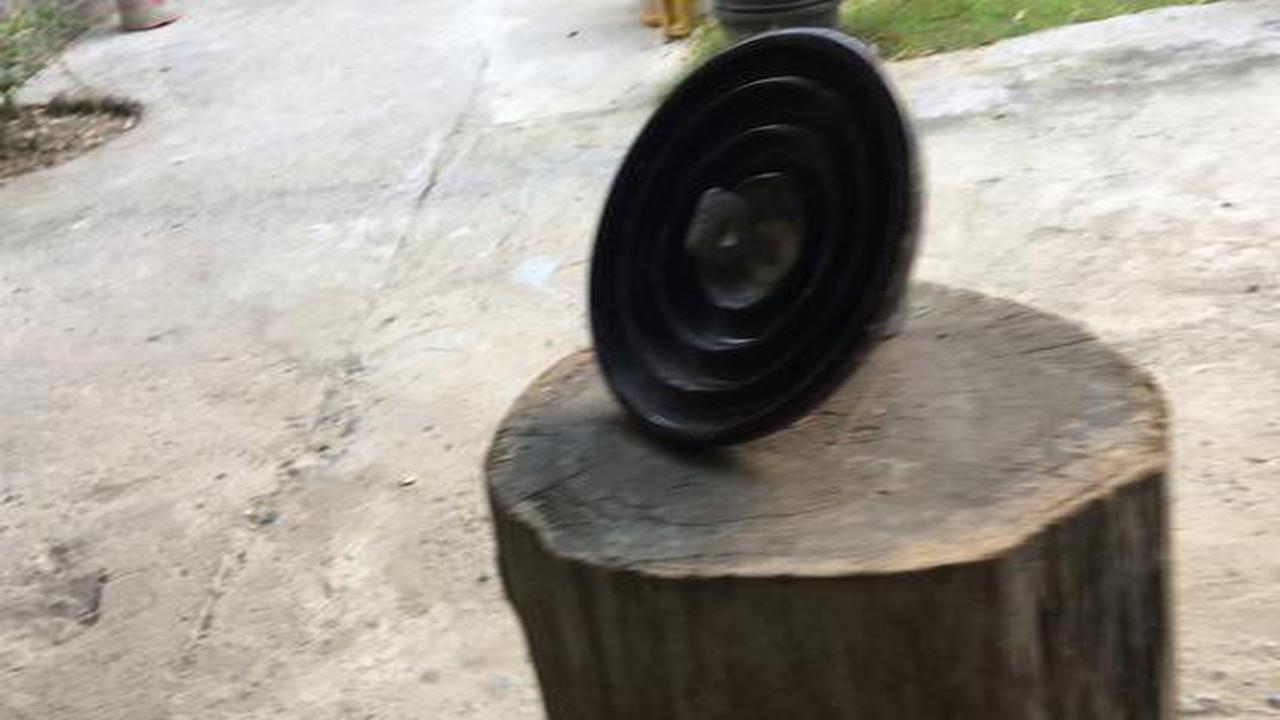insulator_disc: (584, 22, 928, 451)
